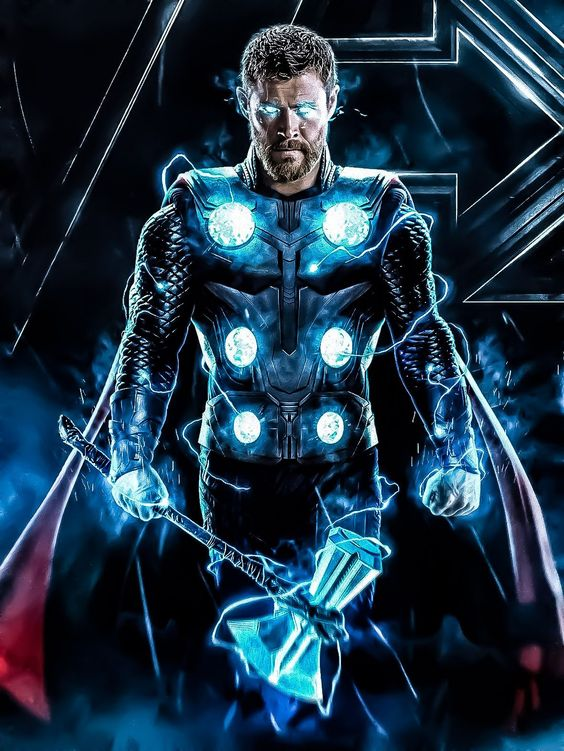THOR Hammer: (55, 403, 393, 716)
